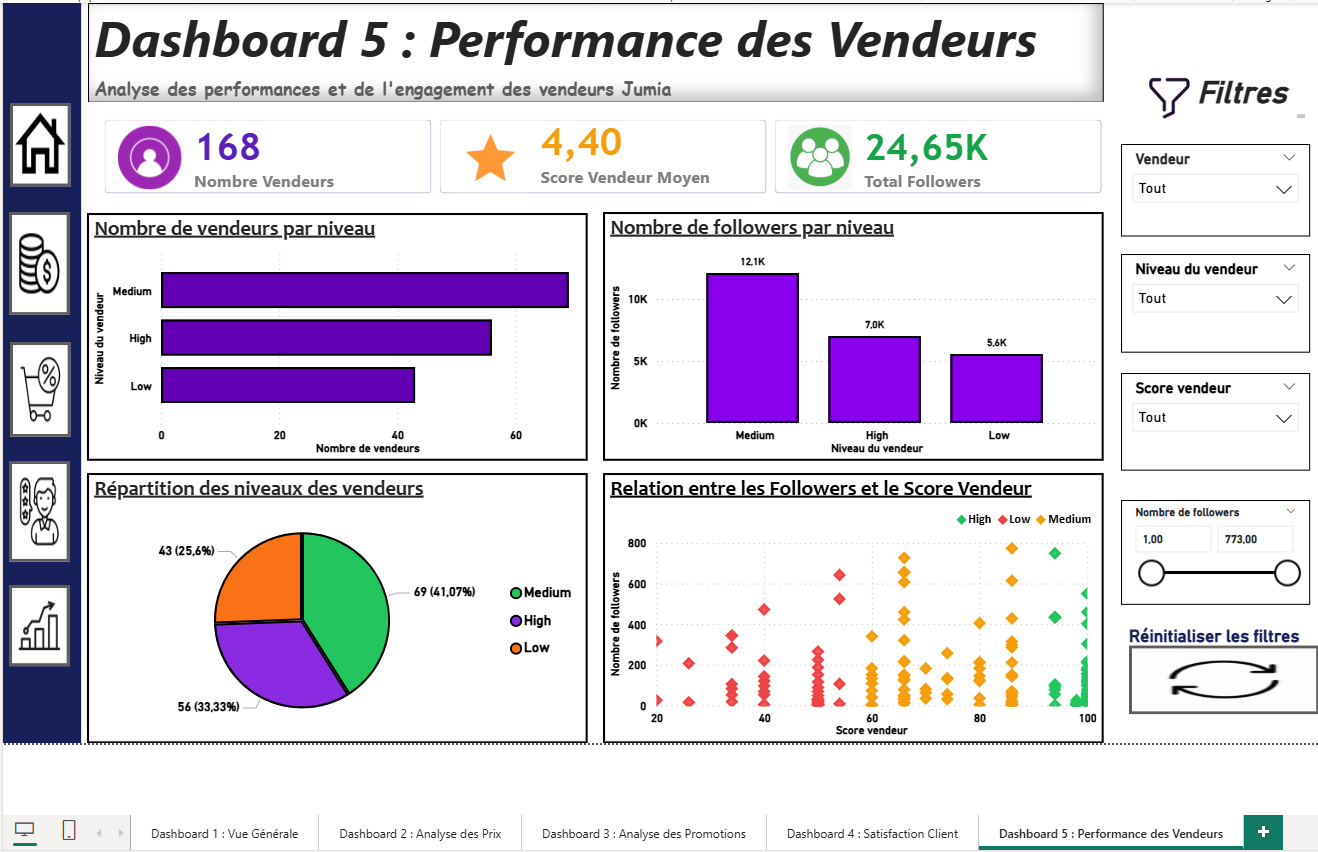

What the dashboard file says about the page in this screenshot:
{"tool":"powerbi","page":{"name":"Dashboard 5 : Performance des Vendeurs","canvas":[1280,720],"ordinal":4},"visuals":[{"type":"actionButton","title":"Réinitialiser les filtres","box":[1095,605.6,185,85.7],"z":0},{"type":"textbox","box":[0,0,75.6,719.5],"z":1000},{"type":"actionButton","box":[6.8,97,58.6,81.2],"z":2000},{"type":"actionButton","box":[5.6,203,58.6,100.4],"z":3000},{"type":"actionButton","box":[6.8,329.3,58.6,92.5],"z":4000},{"type":"actionButton","box":[5.6,445.5,58.6,98.1],"z":5000},{"type":"actionButton","box":[5.6,566.1,58.6,78.9],"z":6000},{"type":"textbox","title":"Dashboard 5 : Performance des Vendeurs","box":[82.3,0,987.9,97],"z":7000},{"type":"image","box":[1104.1,68.8,60.9,47.4],"z":8000},{"type":"cardVisual","fields":{"Data":["Performance des Vendeurs.Nombre Vendeurs","Performance des Vendeurs.Score Vendeur Moyen","Performance des Vendeurs.Total Followers"]},"box":[81.6,96.6,1005.7,106.9],"z":9000},{"type":"clusteredBarChart","title":"Nombre de vendeurs par niveau","fields":{"Y":["Performance des Vendeurs.Nombre Vendeurs"],"Category":["dw dim_vendor.seller_level"]},"box":[81.7,204.3,487.3,241.2],"z":10000},{"type":"clusteredColumnChart","title":"Nombre de followers par niveau","fields":{"Category":["dw dim_vendor.seller_level"],"Y":["Performance des Vendeurs.Total Followers"]},"box":[583.6,203.3,487.3,242.2],"z":11000},{"type":"pieChart","title":"Répartition des niveaux des vendeurs","fields":{"Category":["dw dim_vendor.seller_level"],"Y":["Performance des Vendeurs.Nombre Vendeurs"]},"box":[81.7,457.1,487.3,262.6],"z":12000},{"type":"scatterChart","title":"Relation entre les Followers et le Score Vendeur","fields":{"Y":["dw dim_vendor.followers"],"Series":["dw dim_vendor.seller_level"],"X":["dw dim_vendor.saler_score"]},"box":[584,457,487,263],"z":13000},{"type":"slicer","fields":{"Values":["dw dim_vendor.seller_id"]},"box":[1087.4,137.1,183.8,90.5],"z":14000},{"type":"slicer","fields":{"Values":["dw dim_vendor.seller_level"]},"box":[1087.4,244.1,183.8,96.3],"z":15000},{"type":"slicer","fields":{"Values":["dw dim_vendor.saler_score"]},"box":[1087.4,359.9,183.8,95.3],"z":16000},{"type":"slicer","fields":{"Values":["dw dim_vendor.followers"]},"box":[1087.4,483.4,183.8,102.1],"z":17000},{"type":"textbox","title":"Filtres ","box":[1156.5,69.1,114.8,47.7],"z":18000}]}

Visuals, with their boxes on the page's 1280x720 design canvas (x1, y1, x2, y2). These are canvas units, not pixel positions in the 1318x852 screenshot, which may show the page scaled, cropped or inside an application window:
"Réinitialiser les filtres" actionButton: box=[1095, 606, 1280, 691]
textbox: box=[0, 0, 76, 720]
actionButton: box=[7, 97, 65, 178]
actionButton: box=[6, 203, 64, 303]
actionButton: box=[7, 329, 65, 422]
actionButton: box=[6, 446, 64, 544]
actionButton: box=[6, 566, 64, 645]
"Dashboard 5 : Performance des Vendeurs" textbox: box=[82, 0, 1070, 97]
image: box=[1104, 69, 1165, 116]
cardVisual - Performance des Vendeurs.Nombre Vendeurs x Performance des Vendeurs.Score Vendeur Moyen: box=[82, 97, 1087, 204]
"Nombre de vendeurs par niveau" clusteredBarChart: box=[82, 204, 569, 446]
"Nombre de followers par niveau" clusteredColumnChart: box=[584, 203, 1071, 446]
"Répartition des niveaux des vendeurs" pieChart: box=[82, 457, 569, 720]
"Relation entre les Followers et le Score Vendeur" scatterChart: box=[584, 457, 1071, 720]
slicer - dw dim_vendor.seller_id: box=[1087, 137, 1271, 228]
slicer - dw dim_vendor.seller_level: box=[1087, 244, 1271, 340]
slicer - dw dim_vendor.saler_score: box=[1087, 360, 1271, 455]
slicer - dw dim_vendor.followers: box=[1087, 483, 1271, 586]
"Filtres " textbox: box=[1156, 69, 1271, 117]
